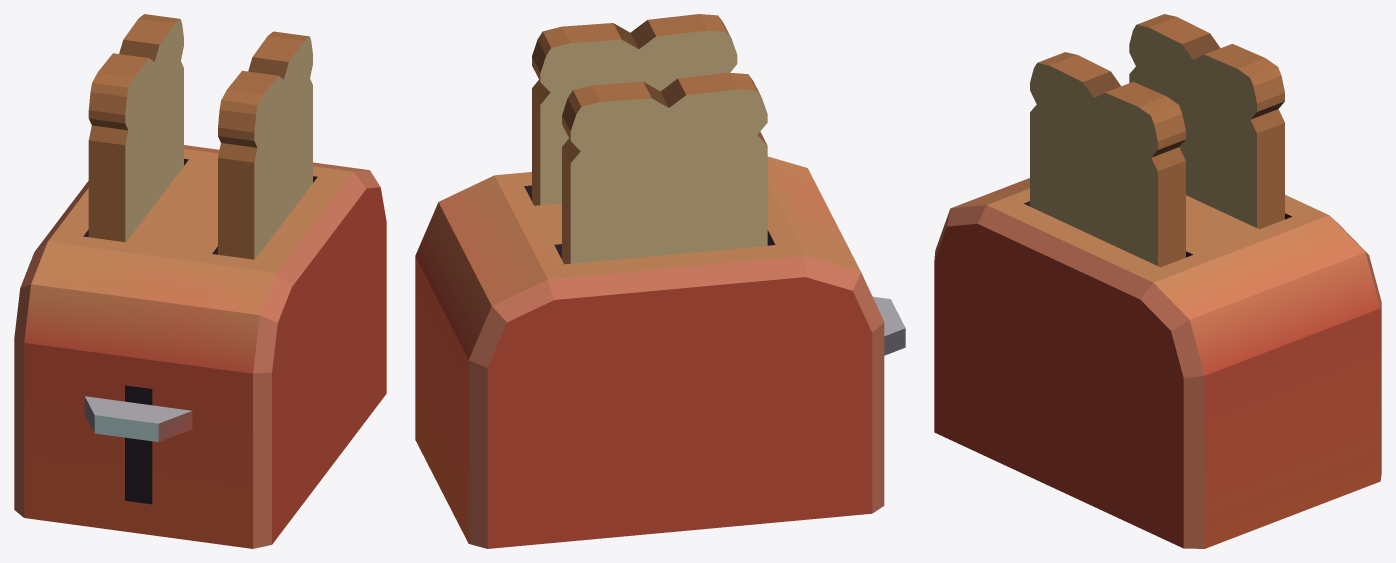
Rendered from toaster.fbx.
The picture shows the model from 3 angles, left to right: view 1: azimuth 30°, elevation 25°; view 2: azimuth 150°, elevation 25°; view 3: azimuth 270°, elevation 25°; orthographic projection. The views are drawn at different scales.
Parts seen in each view (by area): view 1: toaster; view 2: toaster; view 3: toaster.
Part boxes in pixels (box(x1,y1,x2,y2)): toaster: box(14, 14, 386, 548); toaster: box(415, 14, 905, 548); toaster: box(934, 14, 1381, 548).
Size of the model in its own units: 341 by 322 by 335.
